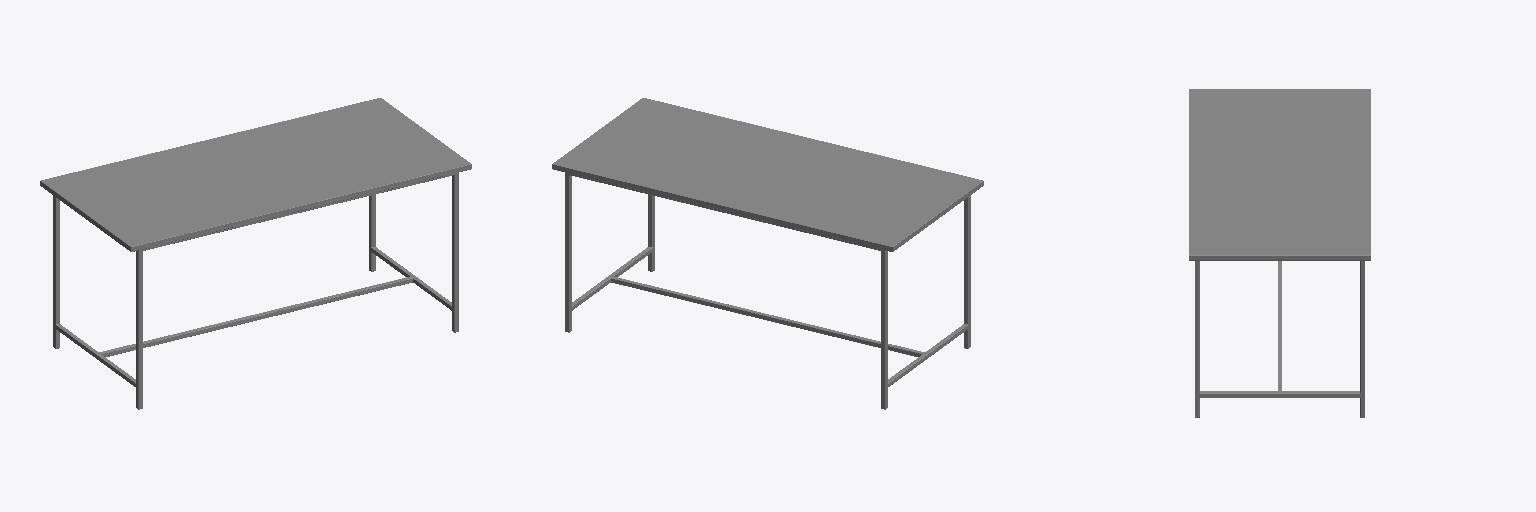
File: mesa.obj
3 views of the same model, side by side, from view 1: azimuth 30°, elevation 25°; view 2: azimuth 150°, elevation 25°; view 3: azimuth 270°, elevation 25° (orthographic).
Parts seen in each view (by area): view 1: tabletop, frame; view 2: tabletop, frame; view 3: tabletop, frame.
Part boxes in pixels (x1,y1,x2,y2): tabletop: (40, 98, 471, 251); frame: (53, 172, 458, 409); tabletop: (552, 98, 983, 251); frame: (565, 172, 970, 409); tabletop: (1189, 89, 1370, 260); frame: (1195, 261, 1364, 417).
Bounding box in the file's own units: 7 × 3.28 × 3.24.